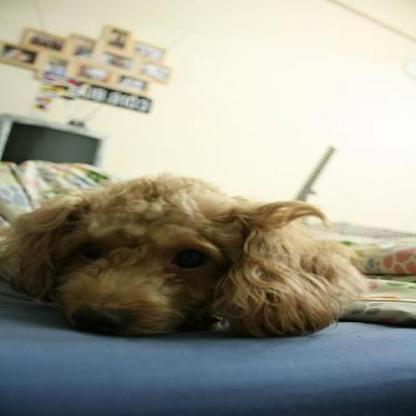toy_poodle: (6, 174, 366, 338)
